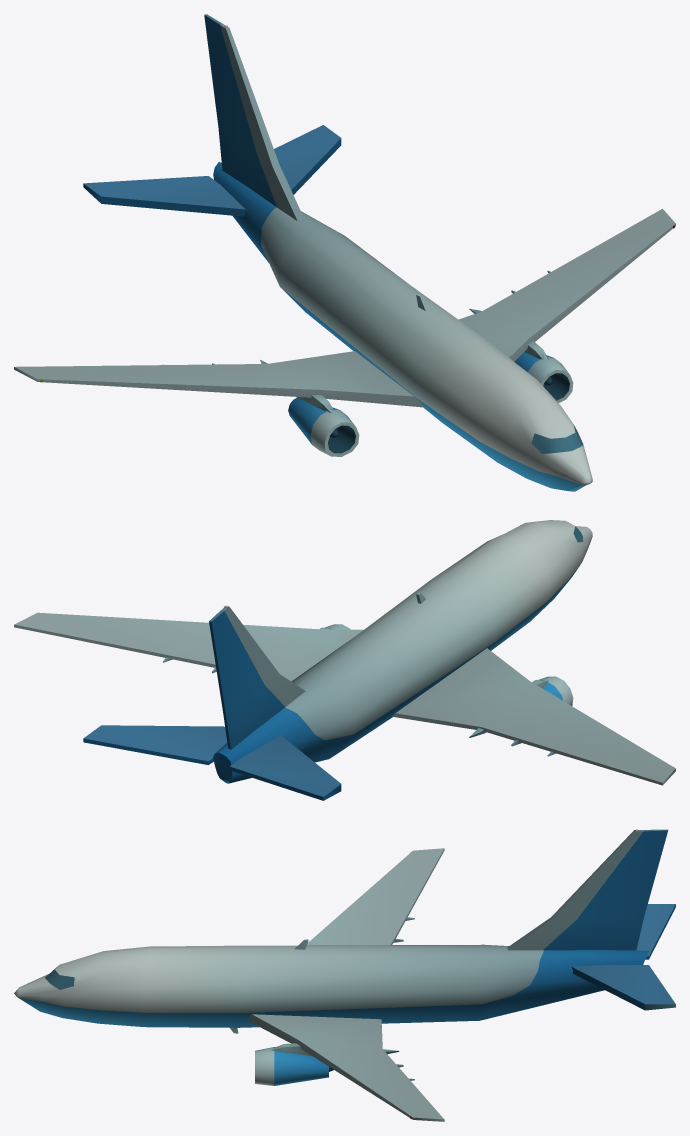
3 views of the same model, one above another, from view 1: azimuth 30°, elevation 25°; view 2: azimuth 150°, elevation 25°; view 3: azimuth 270°, elevation 25° (orthographic). The views are drawn at different scales.
Visible parts, largest first — view 1: base.838; view 2: base.838; view 3: base.838.
Boxes of the visible parts, x1,y1,x2,y2 form: base.838: [14, 14, 675, 491]; base.838: [14, 520, 675, 800]; base.838: [14, 829, 675, 1121].
Size of the model in its own units: 0.485 by 0.1748 by 0.5.
